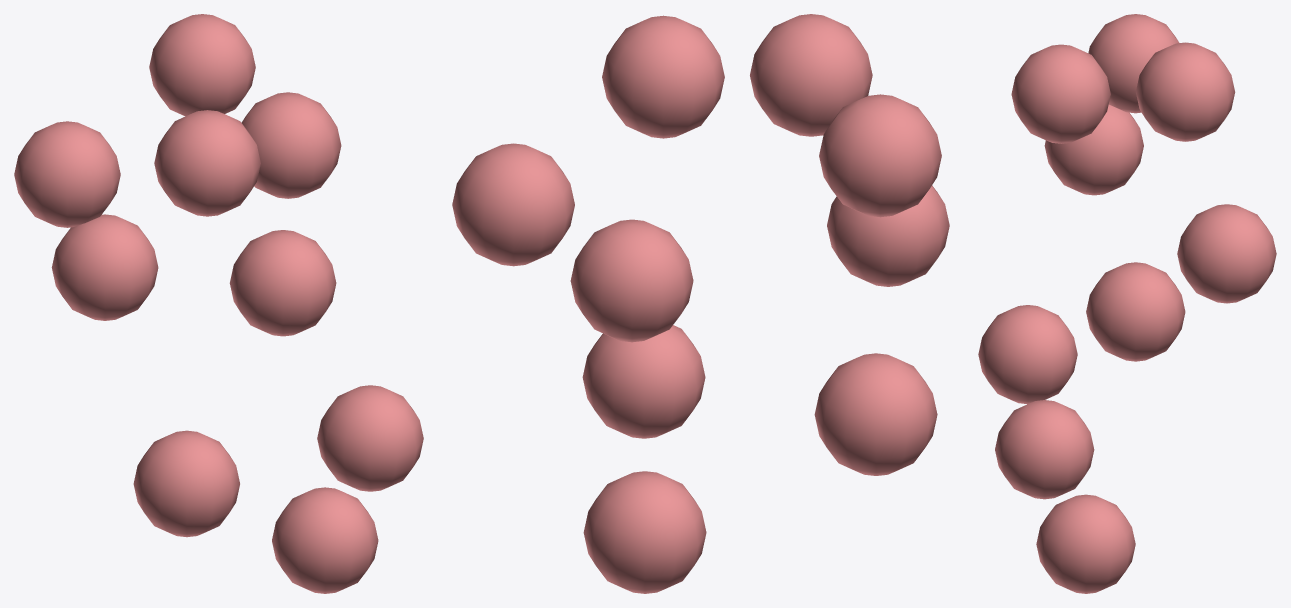
File: heart-per-structure.glb
3 views of the same model, side by side, from view 1: azimuth 30°, elevation 25°; view 2: azimuth 150°, elevation 25°; view 3: azimuth 270°, elevation 25° (orthographic). The views are drawn at different scales.
Parts seen in each view (by area): view 1: heart__mitral-valve, heart__left-ventricle, heart__apex, heart__pulmonary-trunk, heart__right-ventricle, heart__superior-vena-cava, heart__right-atrium, heart__aorta, heart__left-atrium; view 2: heart__left-atrium, heart__mitral-valve, heart__apex, heart__aorta, heart__right-ventricle, heart__superior-vena-cava, heart__pulmonary-trunk, heart__left-ventricle, heart__right-atrium; view 3: heart__pulmonary-trunk, heart__left-ventricle, heart__apex, heart__left-atrium, heart__aorta, heart__mitral-valve, heart__right-ventricle, heart__right-atrium, heart__superior-vena-cava.
Part boxes in pixels (left/top/right/bottom): heart__mitral-valve: left=229, top=230, right=336, bottom=336; heart__left-ventricle: left=317, top=385, right=423, bottom=491; heart__apex: left=272, top=487, right=378, bottom=593; heart__pulmonary-trunk: left=154, top=110, right=260, bottom=216; heart__right-ventricle: left=133, top=430, right=239, bottom=537; heart__superior-vena-cava: left=14, top=121, right=120, bottom=227; heart__right-atrium: left=51, top=214, right=158, bottom=320; heart__aorta: left=149, top=14, right=255, bottom=116; heart__left-atrium: left=241, top=92, right=341, bottom=198; heart__left-atrium: left=452, top=143, right=574, bottom=266; heart__mitral-valve: left=570, top=219, right=693, bottom=342; heart__apex: left=583, top=471, right=706, bottom=593; heart__aorta: left=602, top=15, right=724, bottom=138; heart__right-ventricle: left=814, top=353, right=937, bottom=475; heart__superior-vena-cava: left=819, top=94, right=941, bottom=217; heart__pulmonary-trunk: left=750, top=14, right=872, bottom=136; heart__left-ventricle: left=582, top=325, right=705, bottom=438; heart__right-atrium: left=827, top=185, right=949, bottom=286; heart__pulmonary-trunk: left=1011, top=44, right=1110, bottom=143; heart__left-ventricle: left=995, top=400, right=1094, bottom=499; heart__apex: left=1036, top=494, right=1135, bottom=593; heart__left-atrium: left=1177, top=204, right=1276, bottom=303; heart__aorta: left=1136, top=42, right=1235, bottom=141; heart__mitral-valve: left=1086, top=262, right=1185, bottom=361; heart__right-ventricle: left=978, top=305, right=1077, bottom=404; heart__right-atrium: left=1044, top=104, right=1143, bottom=195; heart__superior-vena-cava: left=1088, top=14, right=1179, bottom=113.
Size of the model in its own units: 2.63 by 3.8 by 2.01.
